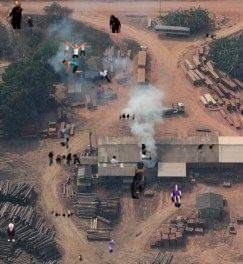Human: (60, 123, 82, 148), (59, 41, 91, 58), (6, 0, 24, 29), (130, 169, 147, 199), (48, 151, 81, 166), (100, 11, 121, 33), (62, 59, 87, 74), (142, 144, 165, 160), (51, 206, 75, 220), (170, 183, 183, 208), (95, 69, 111, 86), (187, 143, 214, 153), (5, 223, 17, 242), (25, 15, 34, 38), (103, 156, 119, 167), (119, 113, 135, 122), (205, 32, 217, 41), (109, 240, 115, 253), (133, 231, 142, 237), (78, 255, 83, 263), (65, 143, 69, 150), (91, 76, 94, 79)
